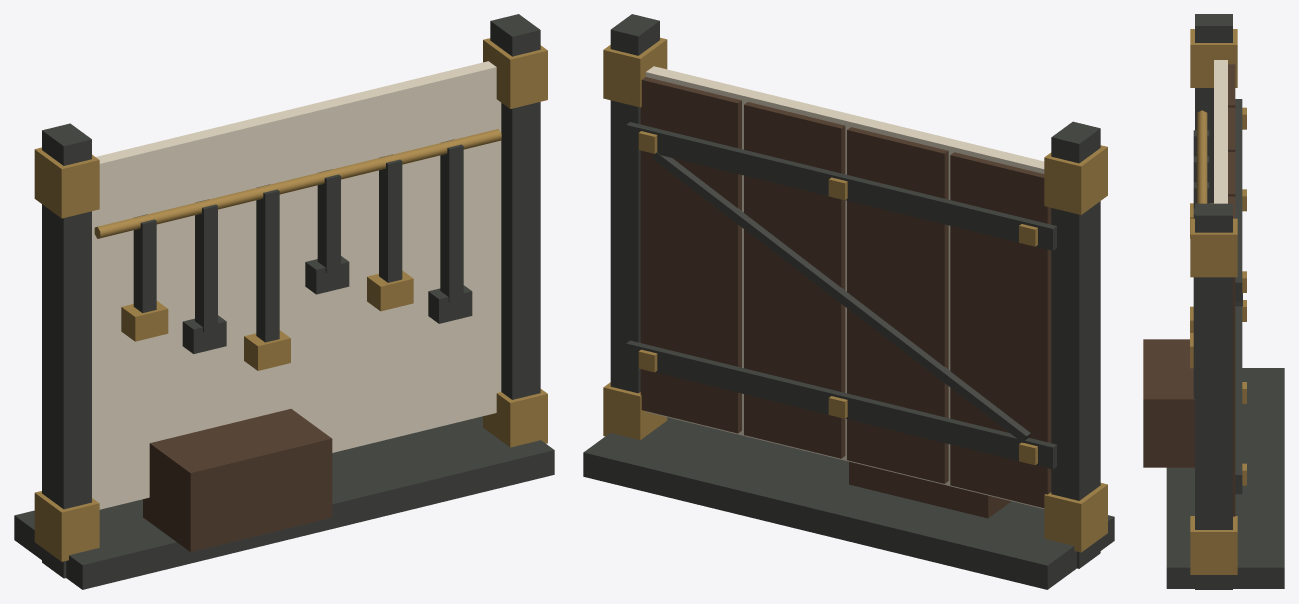
The model's file is tool_rack.glb.
3 renders of one model, left to right at view 1: azimuth 30°, elevation 25°; view 2: azimuth 150°, elevation 25°; view 3: azimuth 270°, elevation 25°, orthographic. The views are drawn at different scales.
Parts seen in each view (by area): view 1: tool_rack; view 2: tool_rack; view 3: tool_rack.
Part boxes in pixels (x1,y1,x2,y2): tool_rack: (14,14,554,589); tool_rack: (583,14,1114,589); tool_rack: (1143,14,1284,589).
Bounding box in the file's own units: 2.06 × 1.75 × 0.6.
